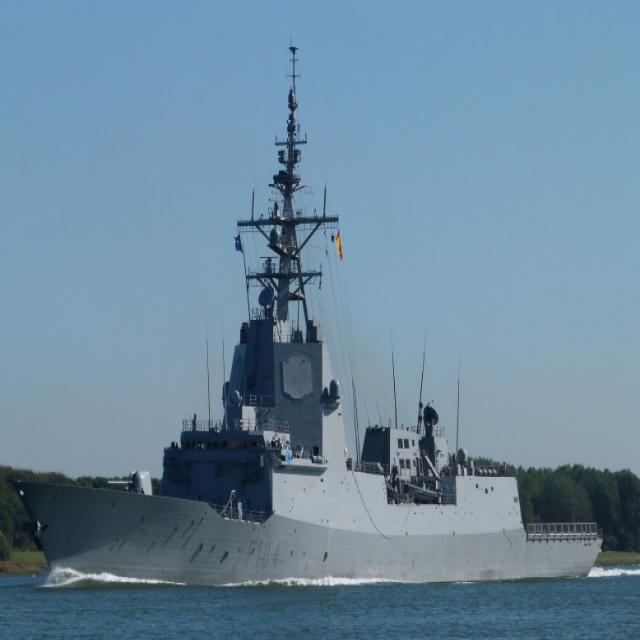Fragata: (7, 38, 602, 593)
